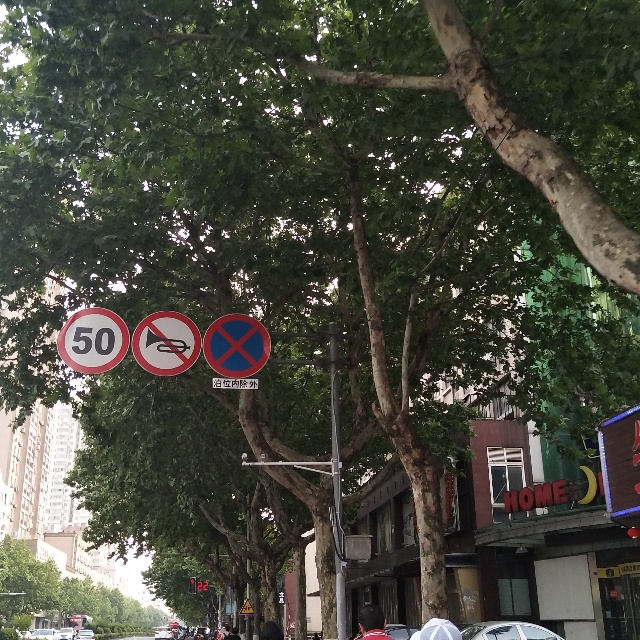nohonk: (131, 311, 202, 376)
stop: (203, 314, 271, 379)
